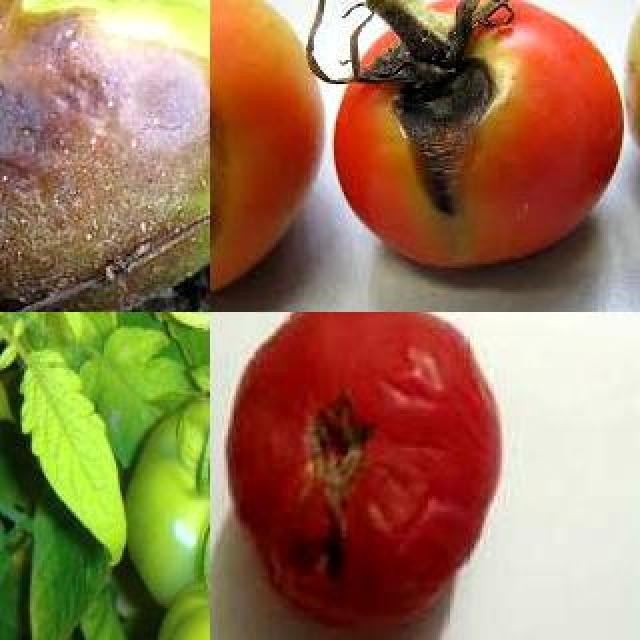Rotten_Tomato: (210, 312, 518, 640), (330, 0, 626, 270), (0, 0, 210, 312), (210, 0, 326, 312)
